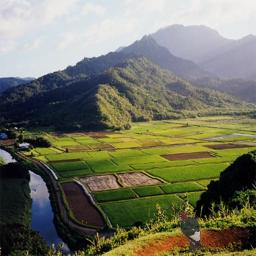Woodpecker: (175, 210, 204, 252)
